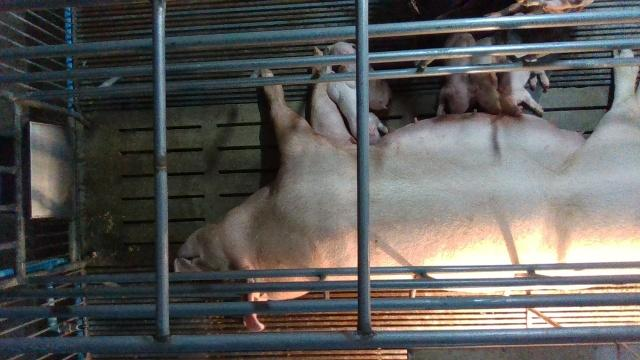piglet: (325, 42, 394, 112), (418, 33, 473, 120), (329, 82, 389, 143), (463, 30, 504, 116), (504, 54, 549, 120)
sow-sleep-lactate: (173, 47, 640, 331)
